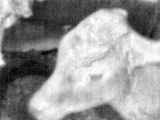eye: (87, 70, 111, 83)
